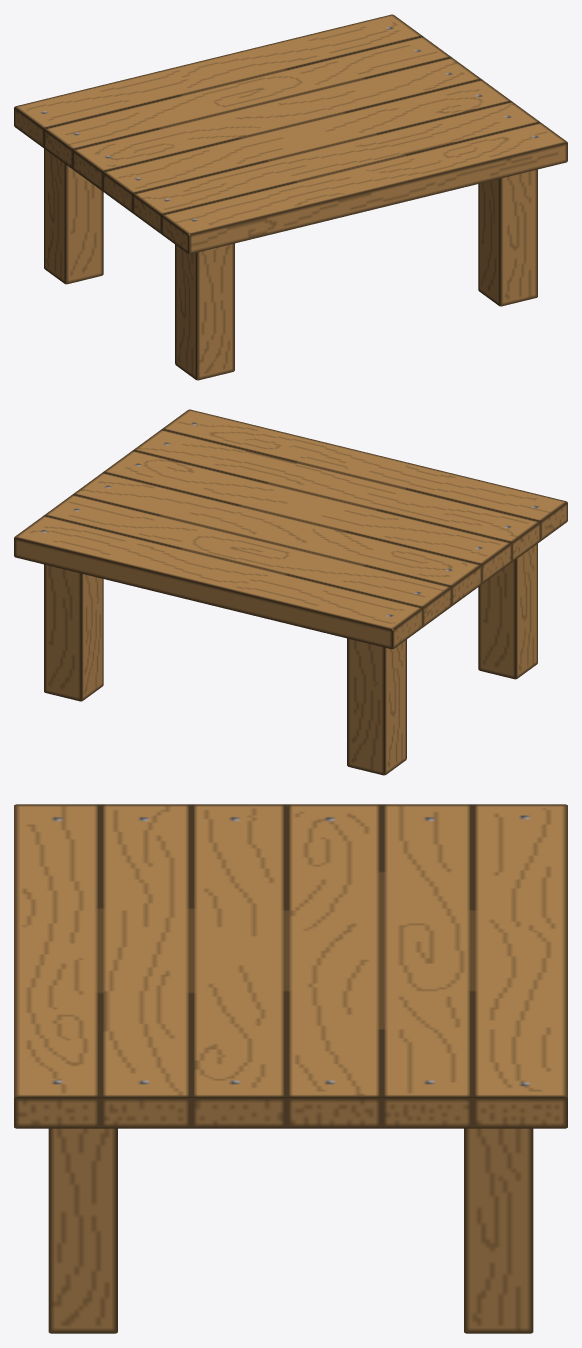
Rendered from smallTable.fbx.
3 views of the same model, one above another, from view 1: azimuth 30°, elevation 25°; view 2: azimuth 150°, elevation 25°; view 3: azimuth 270°, elevation 25° (orthographic). The views are drawn at different scales.
Visible parts, largest first — view 1: smallTable; view 2: smallTable; view 3: smallTable.
Part boxes in pixels (x1,y1,x2,y2): smallTable: [14, 14, 567, 380]; smallTable: [14, 409, 567, 775]; smallTable: [14, 804, 567, 1333].
Size of the model in its own units: 125 by 50 by 100.
1 material, 1 textured.
